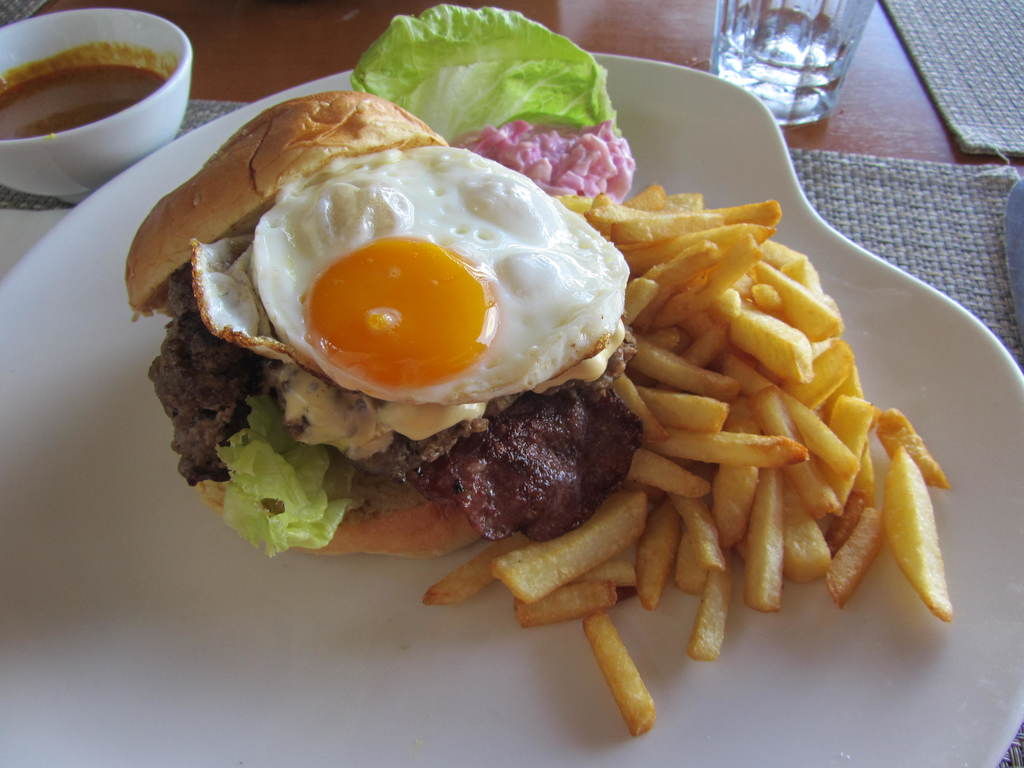French fries: (414, 176, 956, 742)
